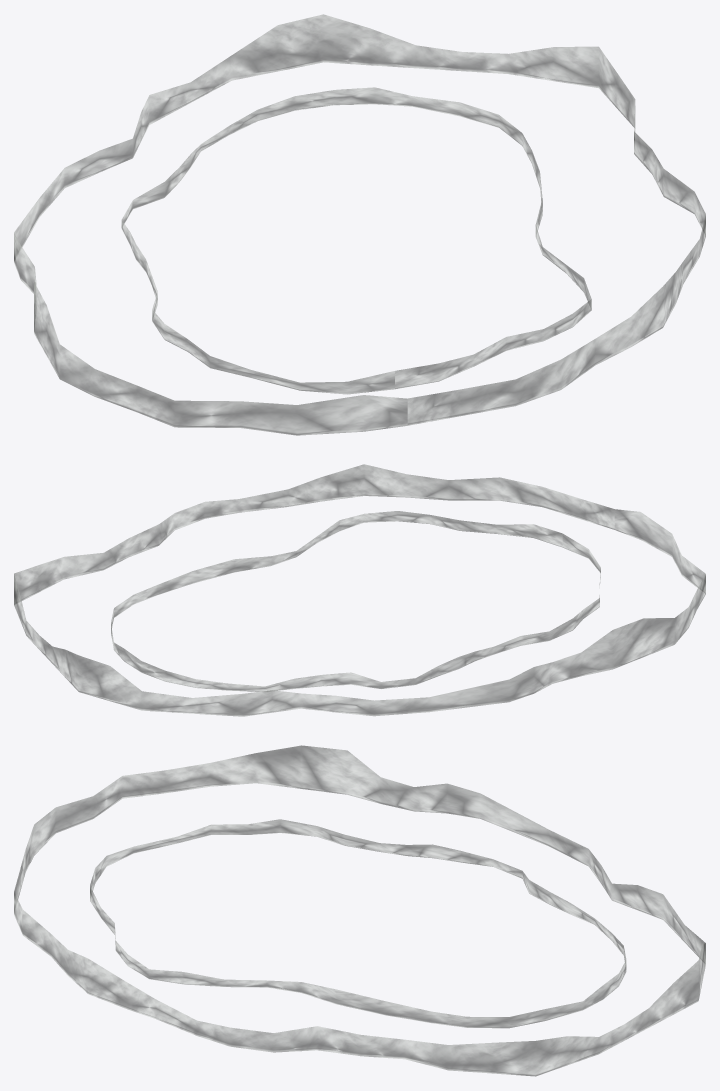
The picture shows the model from 3 angles, top to bottom: view 1: azimuth 30°, elevation 25°; view 2: azimuth 150°, elevation 25°; view 3: azimuth 270°, elevation 25°; orthographic projection. The views are drawn at different scales.
Parts seen in each view (by area): view 1: mesh0; view 2: mesh0; view 3: mesh0.
Boxes of the visible parts, x1=… form: mesh0: x1=14, y1=14, x2=705, y2=435; mesh0: x1=14, y1=464, x2=705, y2=716; mesh0: x1=14, y1=745, x2=705, y2=1076.
Size of the model in its own units: 1341 by 94.8 by 1338.
1 material, 1 textured.
